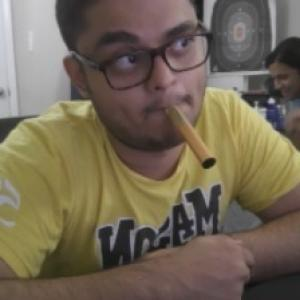Golden-E-Ciggirate: (169, 103, 220, 170)
